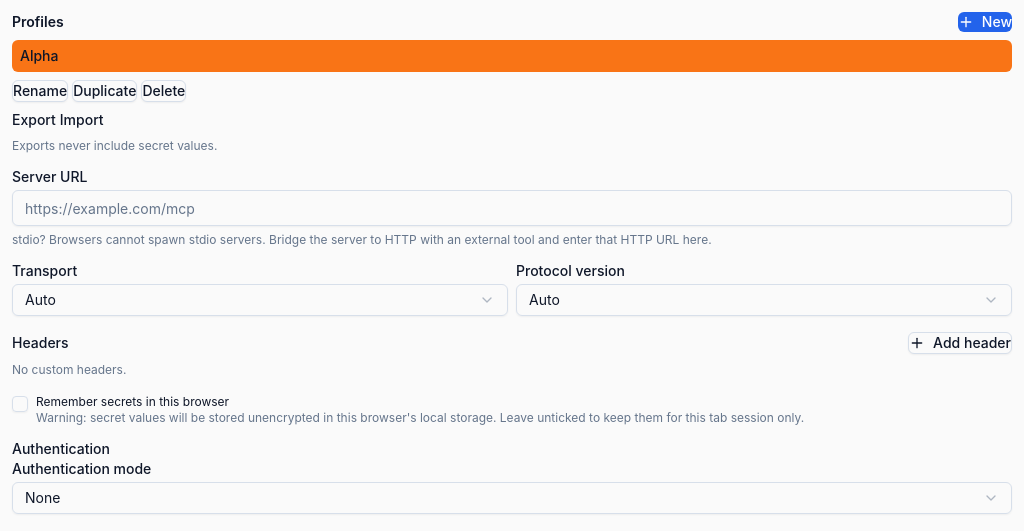
Test case: profile list › Rename updates the name on Enter
Click the button "Rename" at (40, 91), box [12,80,68,102]
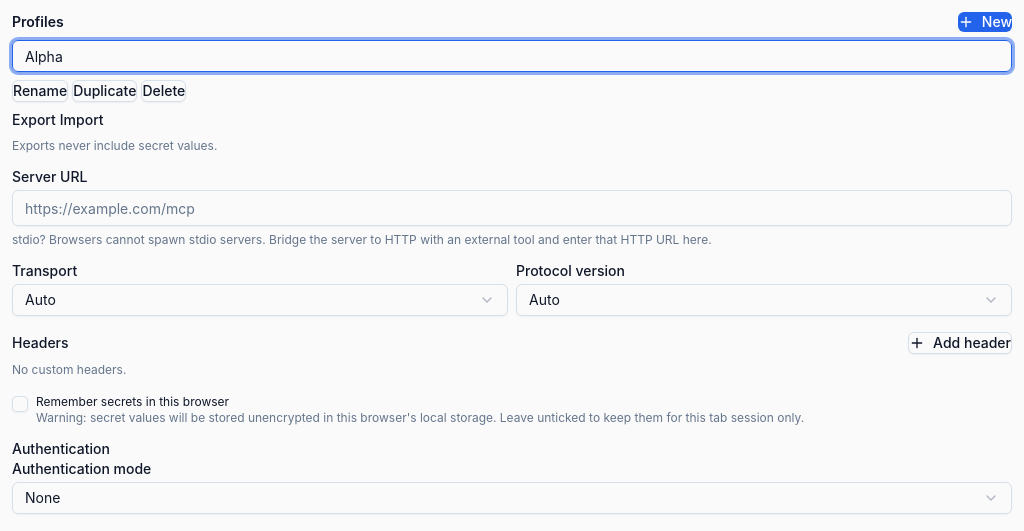
Replace the text in the field named "Profile name" with "Gamma" at (512, 56), box [12,40,1012,72]
Then press Enter
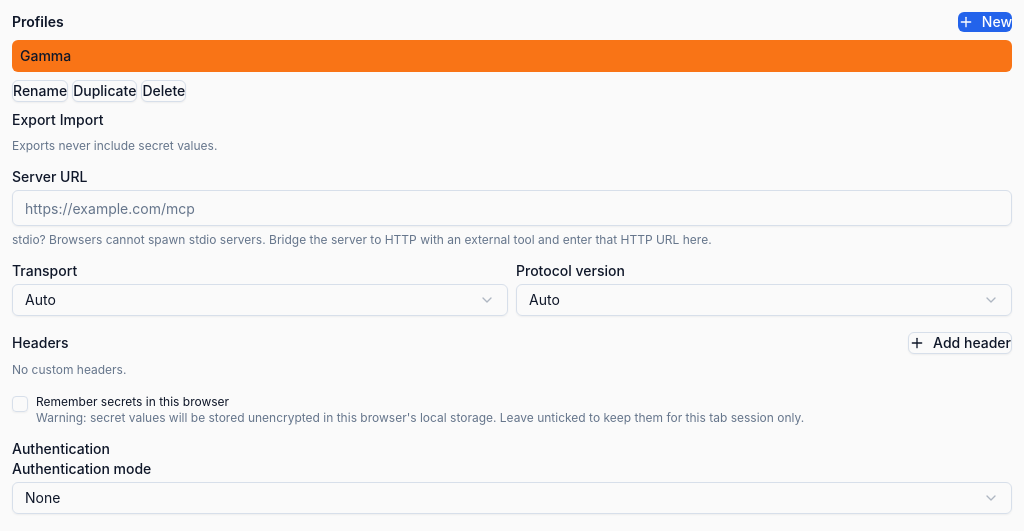
expect the button "Gamma" is shown: met, box [12,40,1012,72]
